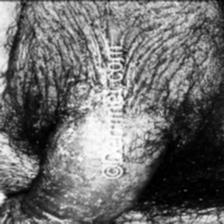Toxin: (41, 22, 102, 170), (34, 205, 78, 224)
